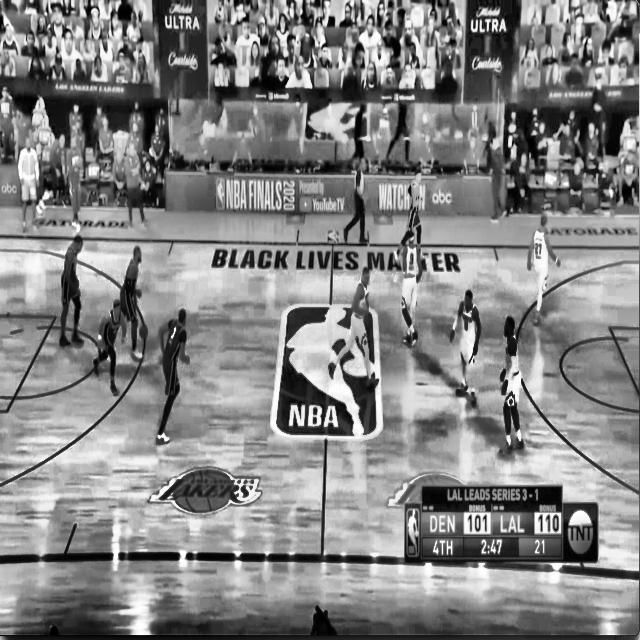Basketball: (139, 323, 147, 340)
